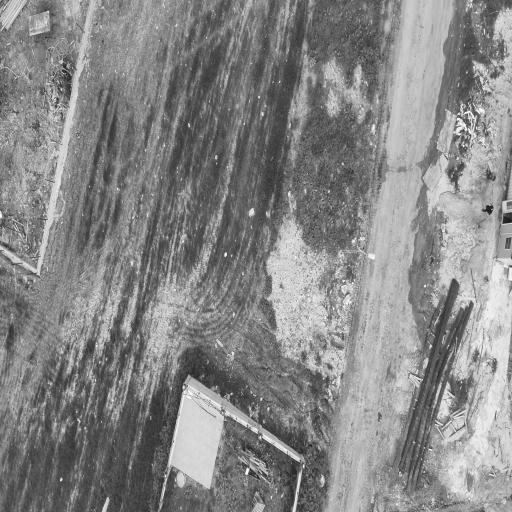person: (482, 205, 493, 215)
